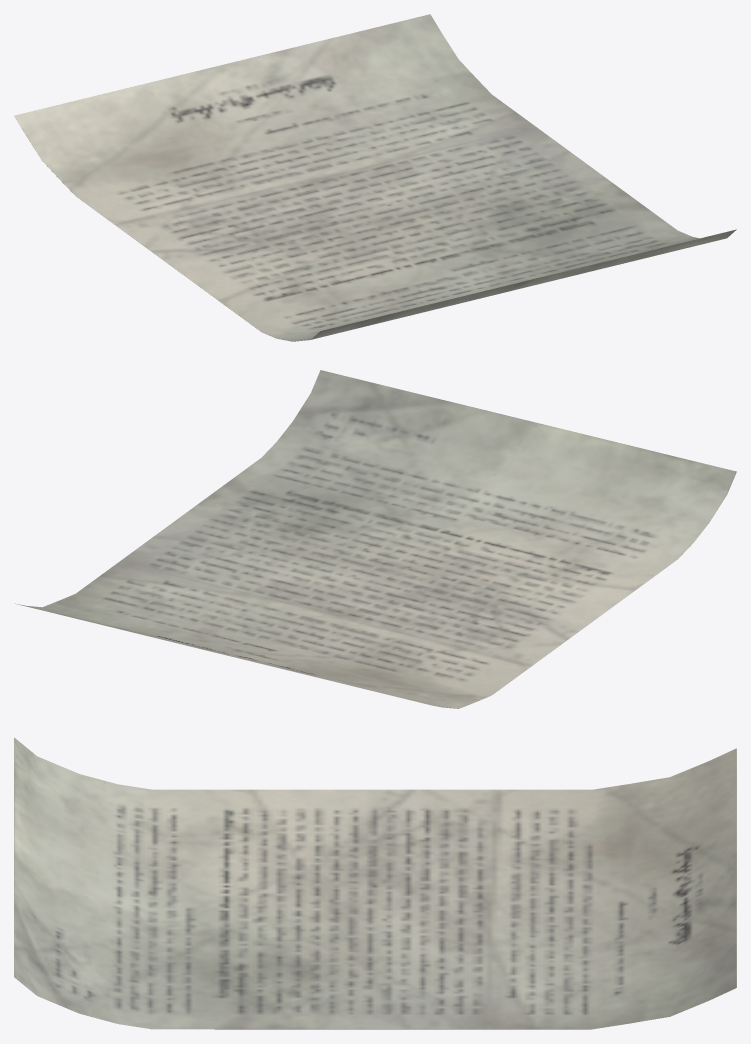
The model's file is Paper_I.obj.
The picture shows the model from 3 angles, top to bottom: view 1: azimuth 30°, elevation 25°; view 2: azimuth 150°, elevation 25°; view 3: azimuth 270°, elevation 25°; orthographic projection. The views are drawn at different scales.
Parts seen in each view (by area): view 1: Paper_I; view 2: Paper_I; view 3: Paper_I.
Part boxes in pixels (x1,y1,x2,y2): Paper_I: [14, 14, 736, 341]; Paper_I: [15, 370, 736, 708]; Paper_I: [14, 737, 736, 1029].
Bounding box in the file's own units: 12.35 × 1.26 × 15.76.
